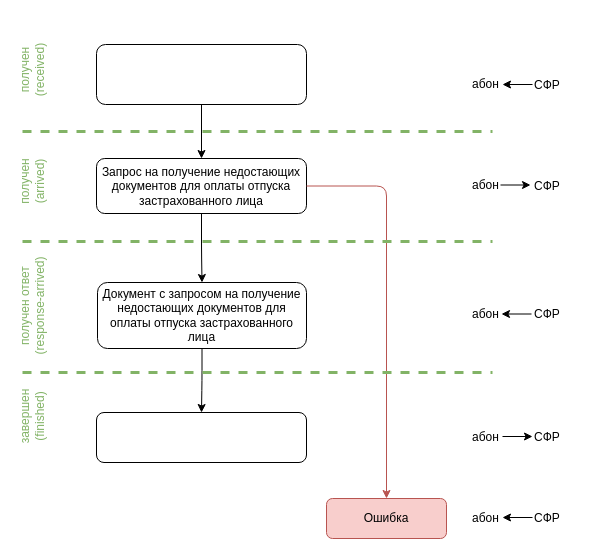
The diagram is 589 pixels wide and 556 high, and some of its shapes have lost their labels. The centre of each missing label's shape, as x and y in pixels:
Информация для генерации запроса на получение документов: point (201, 74)
Отметка о прочтении: point (201, 437)
